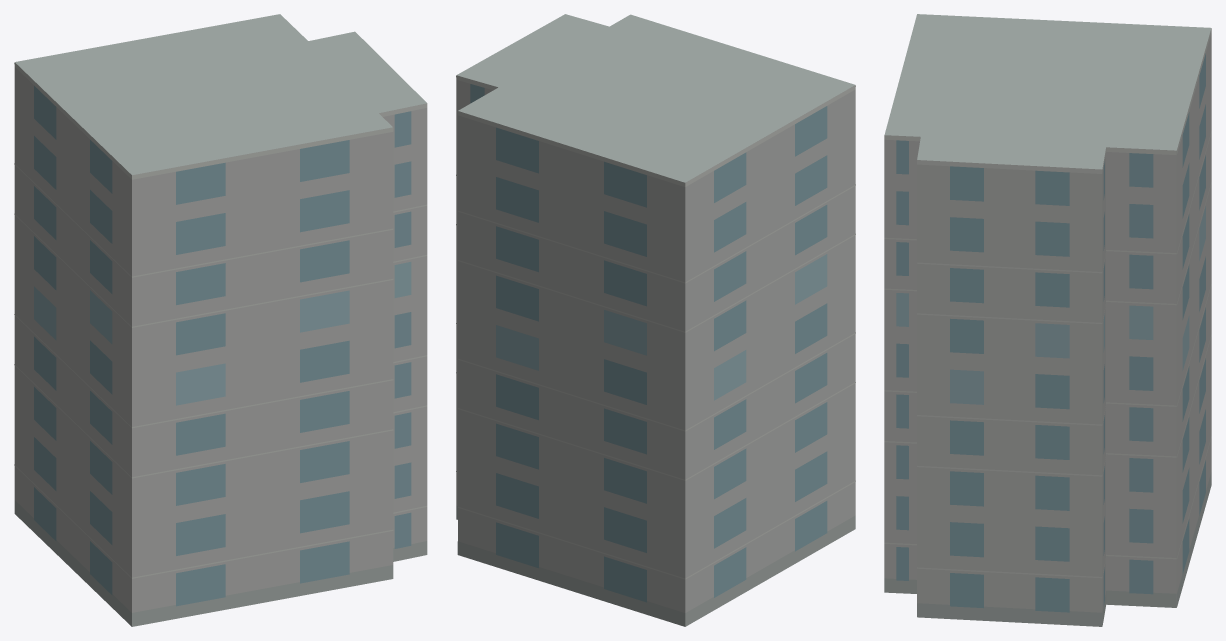
Rendered from survey-upis-32827710.glb.
3 renders of one model, left to right at view 1: azimuth 30°, elevation 25°; view 2: azimuth 150°, elevation 25°; view 3: azimuth 270°, elevation 25°, orthographic. The views are drawn at different scales.
Parts seen in each view (by area): view 1: survey-upis-32827710.tmp; view 2: survey-upis-32827710.tmp; view 3: survey-upis-32827710.tmp.
Part boxes in pixels (bbox=[...]): survey-upis-32827710.tmp: bbox=[14, 14, 427, 626]; survey-upis-32827710.tmp: bbox=[456, 14, 855, 626]; survey-upis-32827710.tmp: bbox=[884, 14, 1211, 626].
Bounding box in the file's own units: 17.74 × 24.3 × 15.77.
